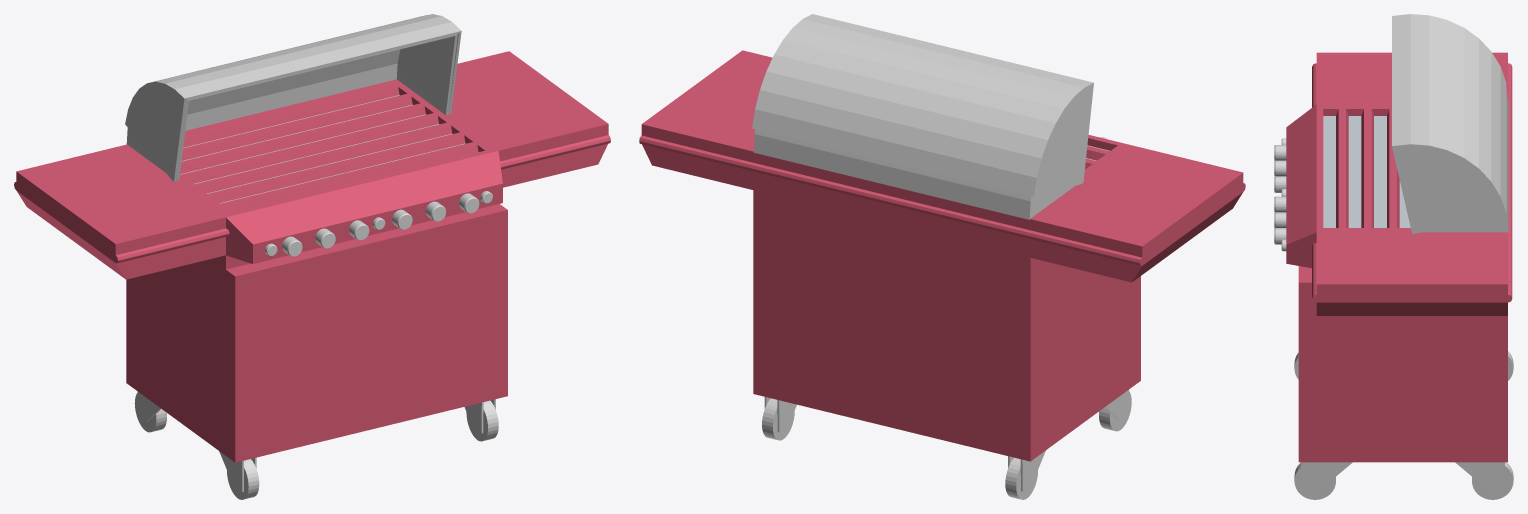
The model's file is GRIL.fbx.
3 views of the same model, side by side, from view 1: azimuth 30°, elevation 25°; view 2: azimuth 150°, elevation 25°; view 3: azimuth 270°, elevation 25° (orthographic). The views are drawn at different scales.
Visible parts, largest first — view 1: Цилиндр.009, Цилиндр.011, Цилиндр.010, Цилиндр.015, Цилиндр.018; view 2: Цилиндр.009, Цилиндр.011, Цилиндр.010, Цилиндр.021, Цилиндр.024; view 3: Цилиндр.009, Цилиндр.011, Цилиндр.010, Цилиндр.014, Цилиндр.020, Цилиндр.021, Цилиндр.015.
Part boxes in pixels (x1,y1,x2,y2): Цилиндр.009: (14,51,610,462); Цилиндр.011: (125,14,461,181); Цилиндр.010: (126,33,457,180); Цилиндр.015: (466,400,498,441); Цилиндр.018: (227,459,259,499); Цилиндр.009: (639,50,1245,461); Цилиндр.011: (752,14,1093,197); Цилиндр.010: (753,129,1074,219); Цилиндр.021: (762,398,794,440); Цилиндр.024: (1005,457,1037,499); Цилиндр.009: (1286,52,1512,462); Цилиндр.011: (1392,14,1506,233); Цилиндр.010: (1422,88,1508,232); Цилиндр.014: (1303,462,1352,489); Цилиндр.020: (1455,462,1504,489); Цилиндр.021: (1472,462,1513,499); Цилиндр.015: (1294,462,1335,499).
Bounding box in the file's own units: 572 × 417 × 250.
